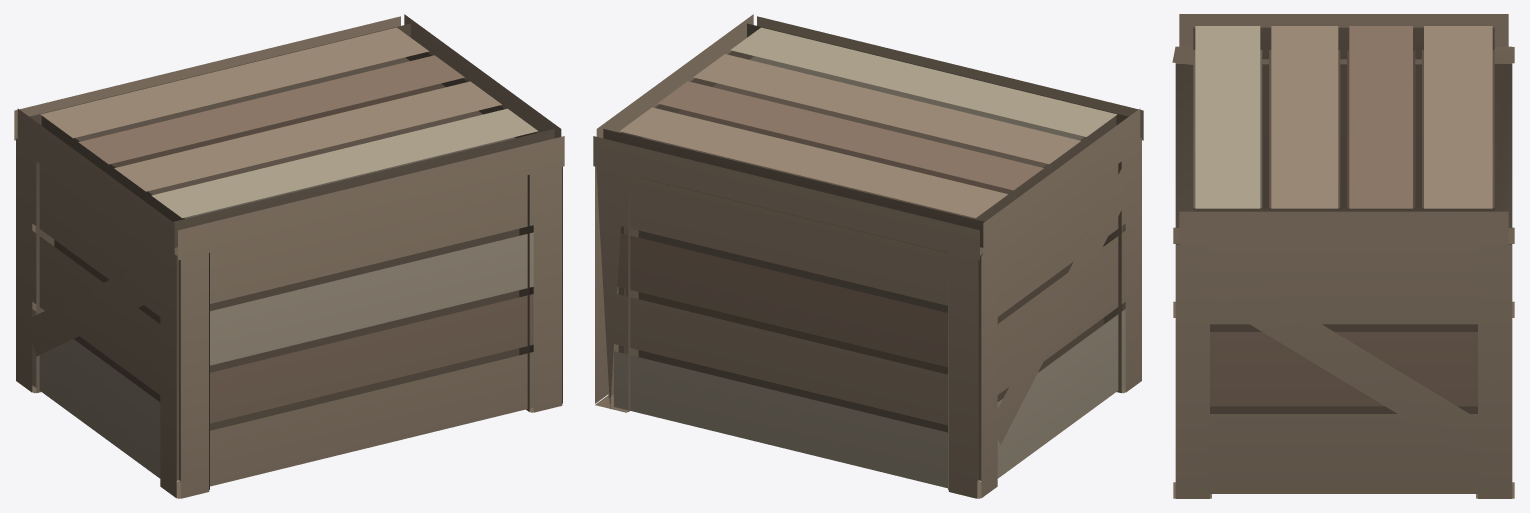
Rendered from wcrate.lod.glb.
3 views of the same model, side by side, from view 1: azimuth 30°, elevation 25°; view 2: azimuth 150°, elevation 25°; view 3: azimuth 270°, elevation 25° (orthographic). The views are drawn at different scales.
Visible parts, largest first — view 1: wcrate; view 2: wcrate; view 3: wcrate.
Boxes of the visible parts, x1,y1,x2,y2 form: wcrate: (14,14,564,498); wcrate: (593,14,1143,498); wcrate: (1172,14,1514,498).
Bounding box in the file's own units: 0.9 × 0.6094 × 0.66.
